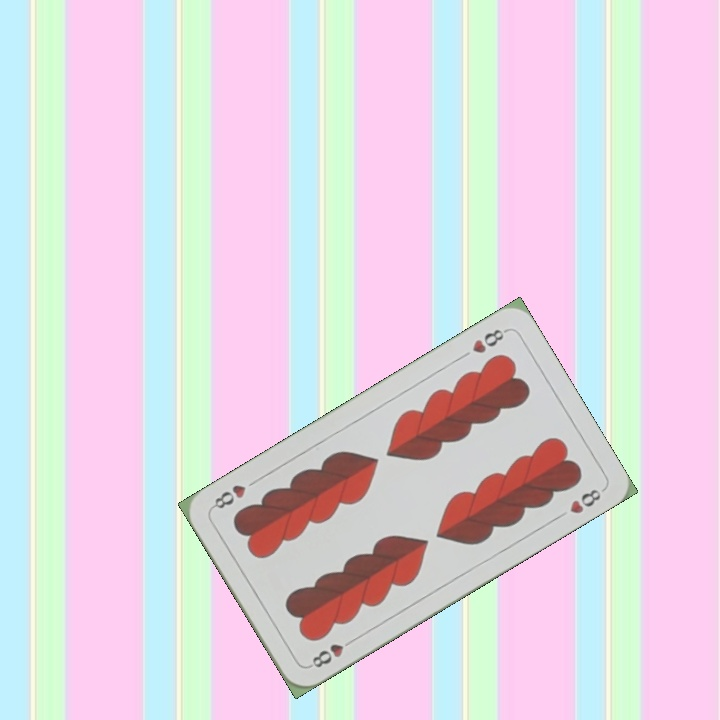H8: (305, 634, 358, 671), (468, 324, 510, 356)
